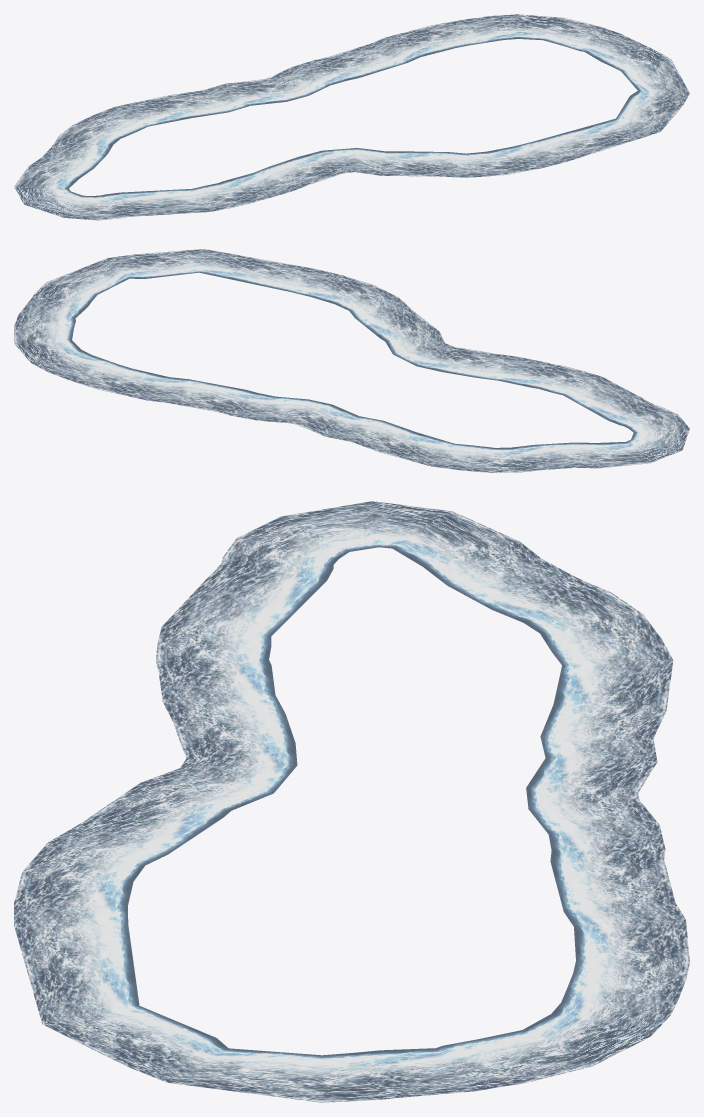
File: island_05_coast.fbx
3 renders of one model, top to bottom at view 1: azimuth 30°, elevation 25°; view 2: azimuth 150°, elevation 25°; view 3: azimuth 270°, elevation 25°, orthographic. The views are drawn at different scales.
Visible parts, largest first — view 1: island_05_coast; view 2: island_05_coast; view 3: island_05_coast.
Boxes of the visible parts, x1=… form: island_05_coast: x1=14, y1=14, x2=689, y2=220; island_05_coast: x1=14, y1=249, x2=689, y2=472; island_05_coast: x1=14, y1=501, x2=689, y2=1102.
Size of the model in its own units: 0.5187 by 0 by 0.2463.
1 material, 1 textured.
